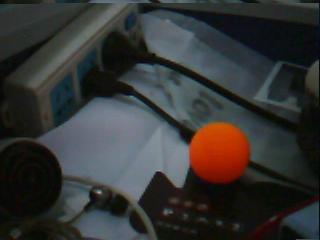oball: (190, 121, 250, 179)
